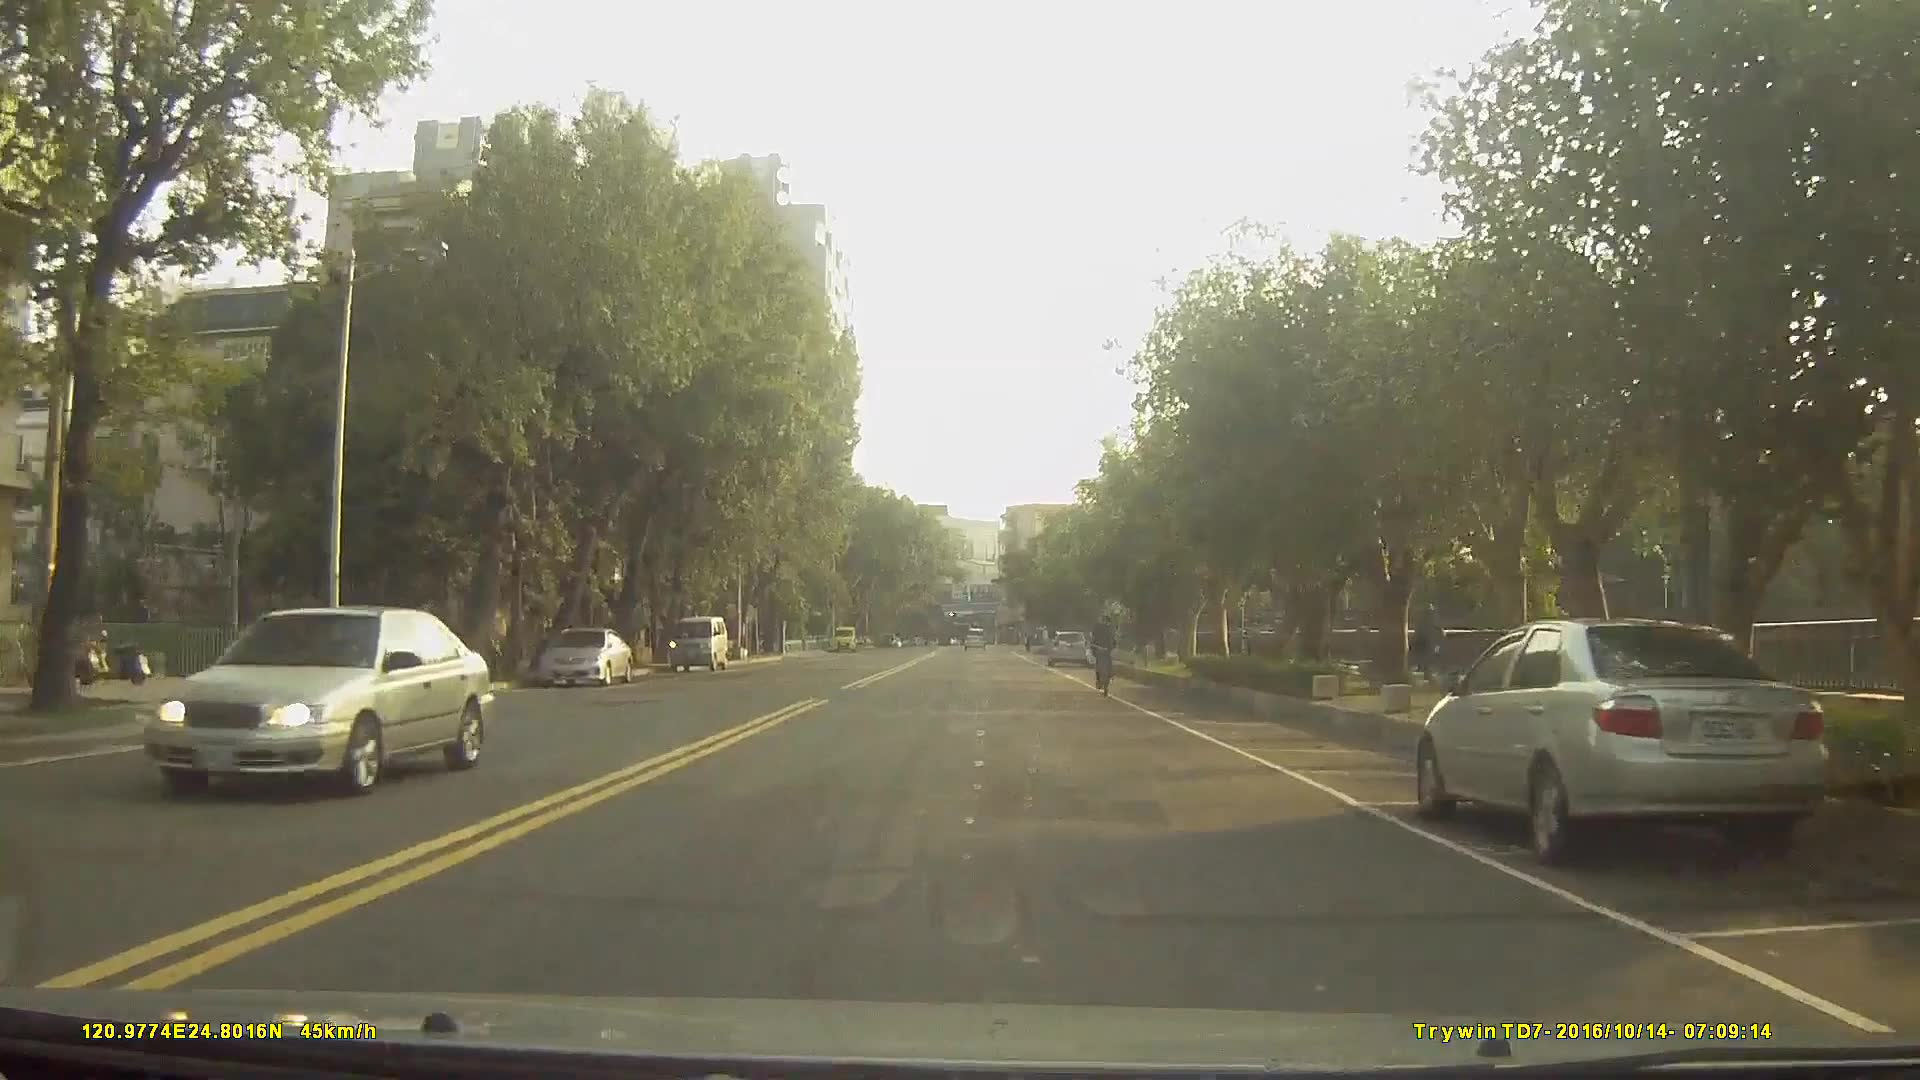rider: (1091, 615, 1120, 700)
vehicle: (1415, 617, 1838, 874), (136, 602, 497, 797), (536, 626, 631, 691), (665, 614, 728, 674), (1045, 629, 1090, 669), (962, 622, 987, 648)
